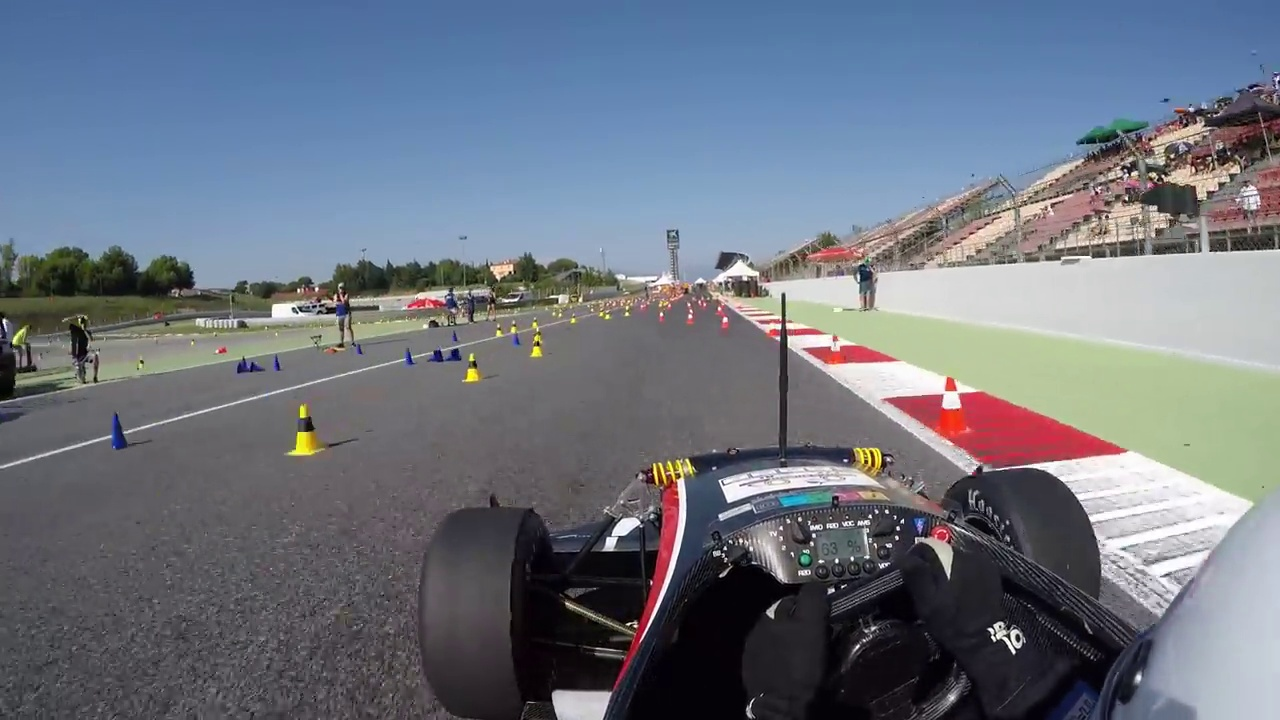Cone: (934, 375, 971, 439), (293, 402, 320, 456), (108, 412, 131, 454), (463, 352, 481, 382)
